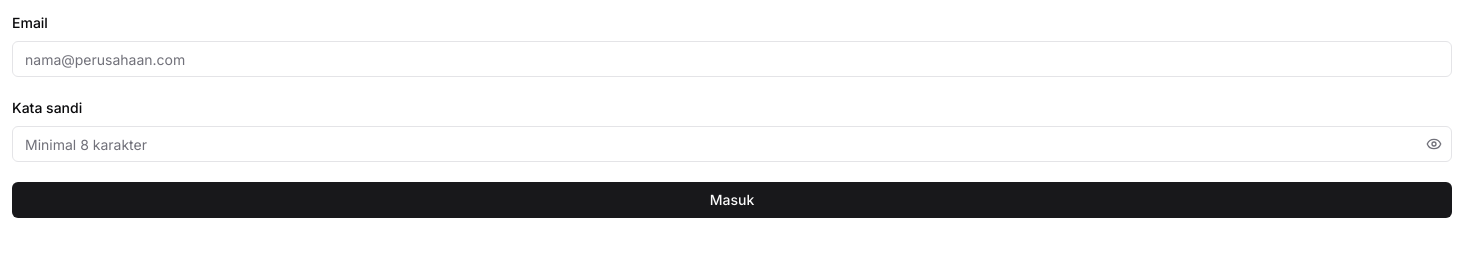
LoginForm › maps a 422 response to the matching field
Type "admin@example.com" into the field labelled "Email" at point(732, 59), box [12,41,1452,77]
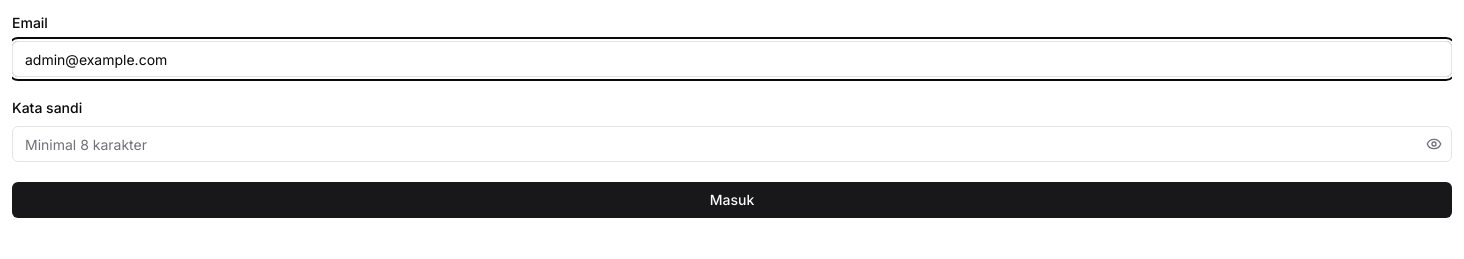
Type "WrongPass#1" into the password field labelled "Kata sandi" at point(732, 144), box [12,126,1452,162]
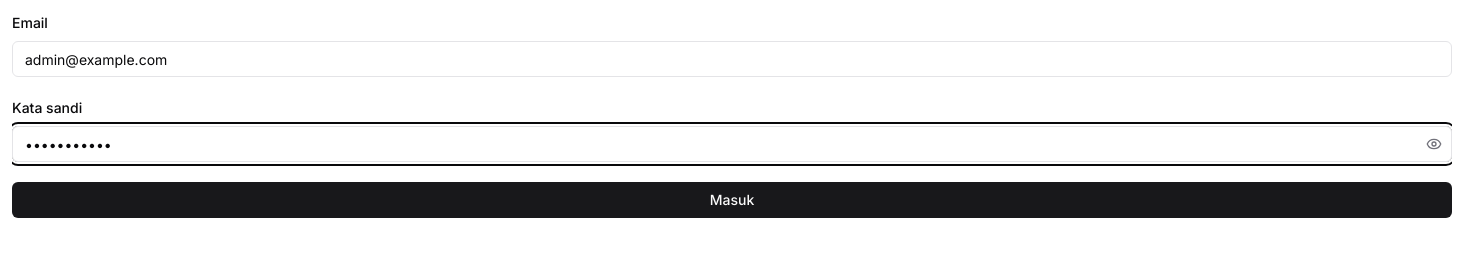
Click the button "Masuk" at point(732, 200), box [12,182,1452,218]
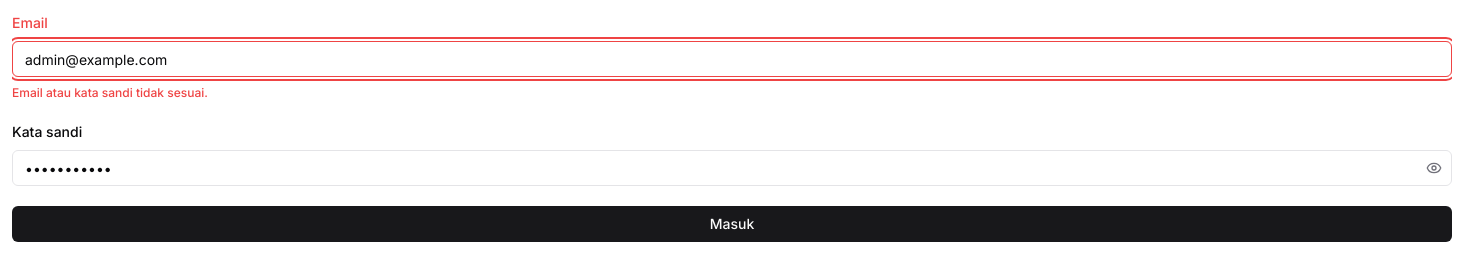
Expected: the text "Email atau kata sandi tidak sesuai." is shown, [12,85,208,100]
